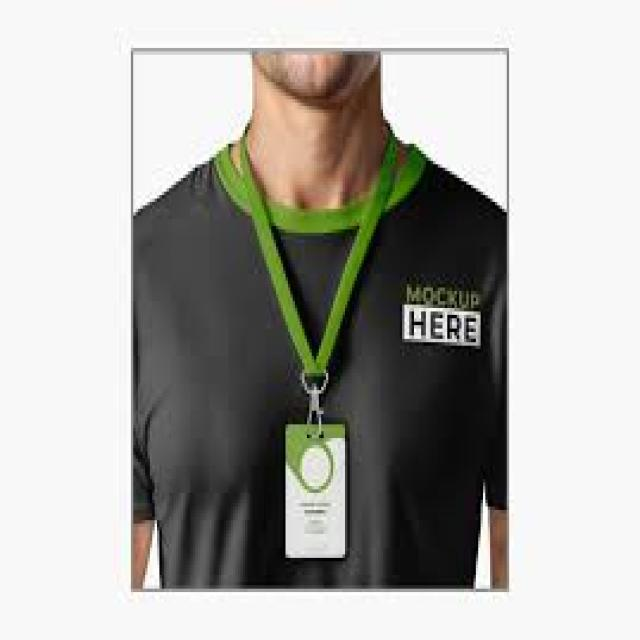id_card: (236, 130, 390, 570)
